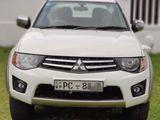car: (7, 1, 154, 120)
